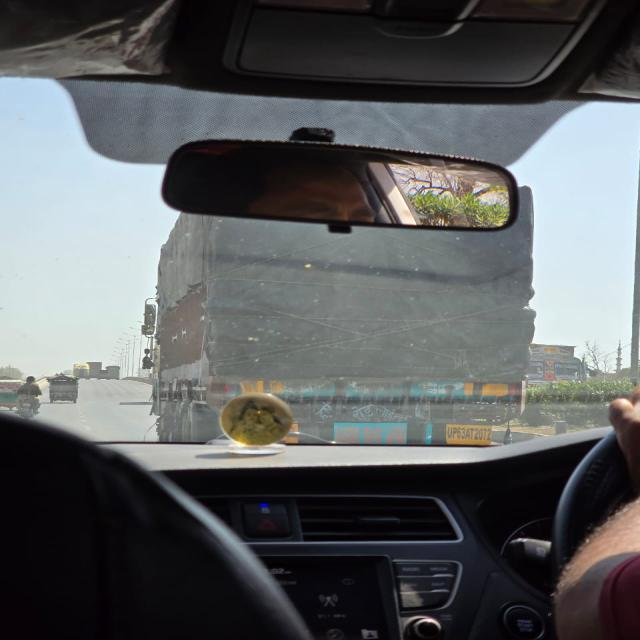covered: (150, 208, 555, 392)
